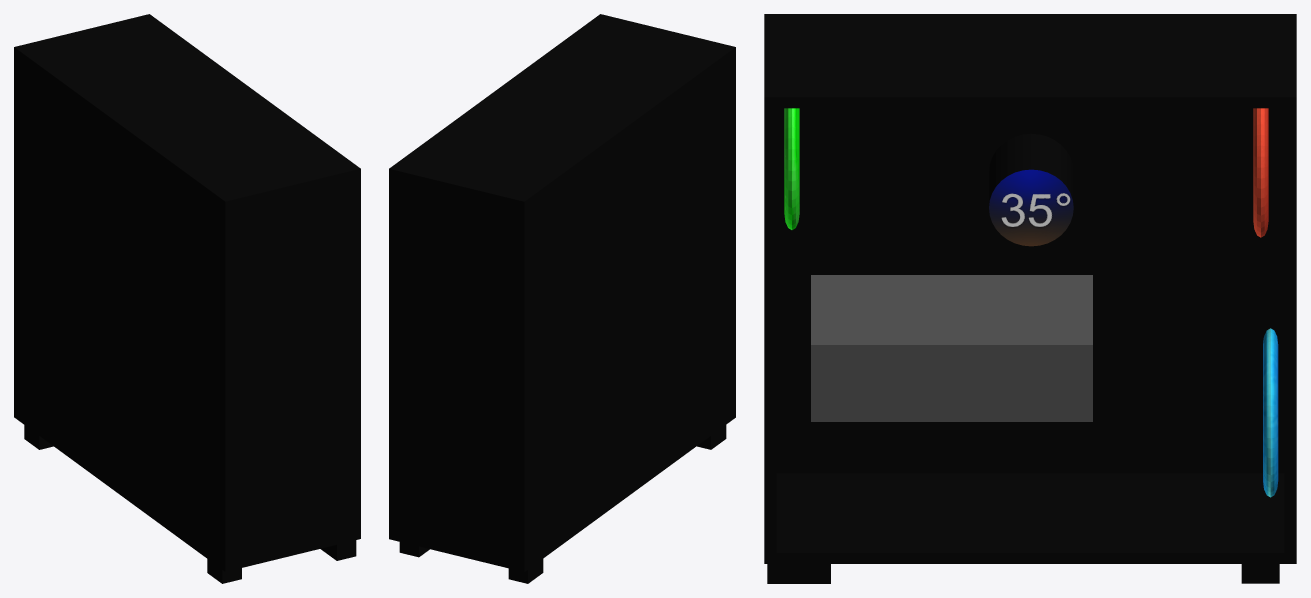
The model's file is pcbox .fbx.
The picture shows the model from 3 angles, left to right: view 1: azimuth 30°, elevation 25°; view 2: azimuth 150°, elevation 25°; view 3: azimuth 270°, elevation 25°; orthographic projection. The views are drawn at different scales.
Parts seen in each view (by area): view 1: Cube.008, Cube.009, Cube.010; view 2: Cube.008, Cube.011; view 3: Cube.008, Cube.013, Cylinder.021, Torus.006, Torus.004, Torus.001, Cube.009, Cube.012.
Boxes of the visible parts, box(x1,y1,x2,y2) form: Cube.008: box(14, 14, 360, 571); Cube.009: box(320, 540, 356, 560); Cube.010: box(207, 559, 241, 583); Cube.008: box(389, 14, 735, 572); Cube.011: box(508, 559, 543, 583); Cube.008: box(764, 14, 1296, 563); Cube.013: box(811, 275, 1092, 421); Cylinder.021: box(989, 133, 1073, 246); Torus.006: box(1263, 328, 1278, 497); Torus.004: box(1253, 108, 1268, 237); Torus.001: box(784, 108, 799, 229); Cube.009: box(767, 564, 830, 583); Cube.012: box(1241, 564, 1279, 583).
Bounding box in the file's own units: 74.42 × 204 × 201.
